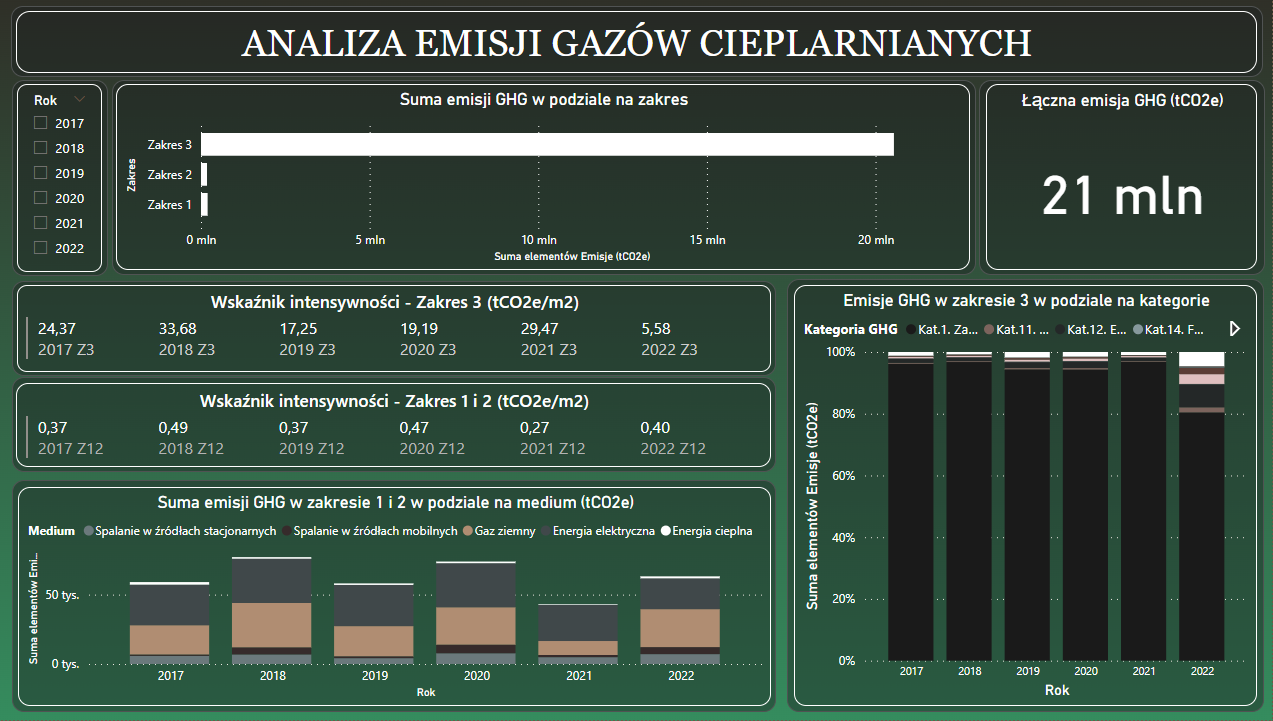

What the dashboard file says about the page in this screenshot:
{"tool":"powerbi","page":{"name":"Strona 1","canvas":[1280,720],"ordinal":0},"visuals":[{"type":"shape","box":[19,6,1252,71],"z":0},{"type":"shape","box":[795,279,477,433],"z":1000},{"type":"shape","box":[20,80,95.6,196.1],"z":2000},{"type":"shape","box":[20,480,763.7,231.6],"z":3000},{"type":"shape","box":[20,377.1,764.3,95],"z":4000},{"type":"shape","box":[20,281,764,95],"z":5000},{"type":"shape","box":[987.3,80,285.3,195.3],"z":6000},{"type":"textbox","box":[23.9,10.9,1241.3,62.6],"z":7000},{"type":"hundredPercentStackedColumnChart","title":"Emisje GHG w zakresie 3 w podziale na kategorie","fields":{"Category":["Zakres 1-3 (2).Rok"],"Y":["Sum(Zakres 1-3 (2).Emisje (tCO2e))"],"Series":["Zakres 1-3 (2).Kategoria GHG"]},"box":[801.7,285,463.3,420.8],"z":8000},{"type":"slicer","fields":{"Values":["Zakres 1-3 (2).Rok"]},"box":[25,84.2,85,187.5],"z":9000},{"type":"card","title":"Łączna emisja GHG (tCO2e)","fields":{"Values":["Sum(Zakres 1-3 (2).Emisje (tCO2e))"]},"box":[993.9,84.4,271.1,185.6],"z":10000},{"type":"shape","box":[120,80,863.8,195.4],"z":11000},{"type":"clusteredBarChart","title":"Suma emisji GHG w podziale na zakres","fields":{"Category":["Zakres 1-3 (2).Zakres"],"Y":["Sum(Zakres 1-3 (2).Emisje (tCO2e))"]},"box":[124.2,84.2,854.2,185.8],"z":12000},{"type":"columnChart","title":"Suma emisji GHG w zakresie 1 i 2 w podziale na medium (tCO2e)","fields":{"Category":["Zakres 1-3 (2).Rok"],"Series":["Zakres 1-3 (2).Kategoria GHG"],"Y":["Sum(Zakres 1-3 (2).Emisje (tCO2e))"]},"box":[25.8,486.7,753.3,219.2],"z":13000},{"type":"multiRowCard","title":"Wskaźnik intensywności - Zakres 3 (tCO2e/m2)","fields":{"Values":["Powierzchnia.Emisje (tCO2e) podzielić przez 2017","Powierzchnia.Emisje (tCO2e) podzielić przez 2018","Powierzchnia.Emisje (tCO2e) podzielić przez 2019","Powierzchnia.Emisje (tCO2e) podzielić przez 2020","Powierzchnia.Emisje (tCO2e) podzielić przez 2021","Powierzchnia.Emisje (tCO2e) podzielić przez 2022"]},"box":[25,285,754,86.5],"z":14000},{"type":"multiRowCard","title":"Wskaźnik  intensywności - Zakres 1 i 2 (tCO2e/m2)","fields":{"Values":["Powierzchnia.2017 Z12","Powierzchnia.2018 Z12","Powierzchnia.2019 Z12","Powierzchnia.2020 Z12","Powierzchnia.2021 Z12","Powierzchnia.2022 Z12"]},"box":[24.3,382.9,755,84.3],"z":15000}]}

Visuals, with their boxes in screenshot pixels (x1, y1, x2, y2), scaled from the page's 1280x720 canvas onto the 1273x721 screenshot:
shape: <region>19, 6, 1264, 77</region>
shape: <region>791, 279, 1265, 713</region>
shape: <region>20, 80, 115, 276</region>
shape: <region>20, 481, 779, 713</region>
shape: <region>20, 378, 780, 473</region>
shape: <region>20, 281, 780, 377</region>
shape: <region>982, 80, 1266, 276</region>
textbox: <region>24, 11, 1258, 74</region>
"Emisje GHG w zakresie 3 w podziale na kategorie" hundredPercentStackedColumnChart: <region>797, 285, 1258, 707</region>
slicer - Zakres 1-3 (2).Rok: <region>25, 84, 109, 272</region>
"Łączna emisja GHG (tCO2e)" card: <region>988, 85, 1258, 270</region>
shape: <region>119, 80, 978, 276</region>
"Suma emisji GHG w podziale na zakres" clusteredBarChart: <region>124, 84, 973, 270</region>
"Suma emisji GHG w zakresie 1 i 2 w podziale na medium (tCO2e)" columnChart: <region>26, 487, 775, 707</region>
"Wskaźnik intensywności - Zakres 3 (tCO2e/m2)" multiRowCard: <region>25, 285, 775, 372</region>
"Wskaźnik  intensywności - Zakres 1 i 2 (tCO2e/m2)" multiRowCard: <region>24, 383, 775, 468</region>
